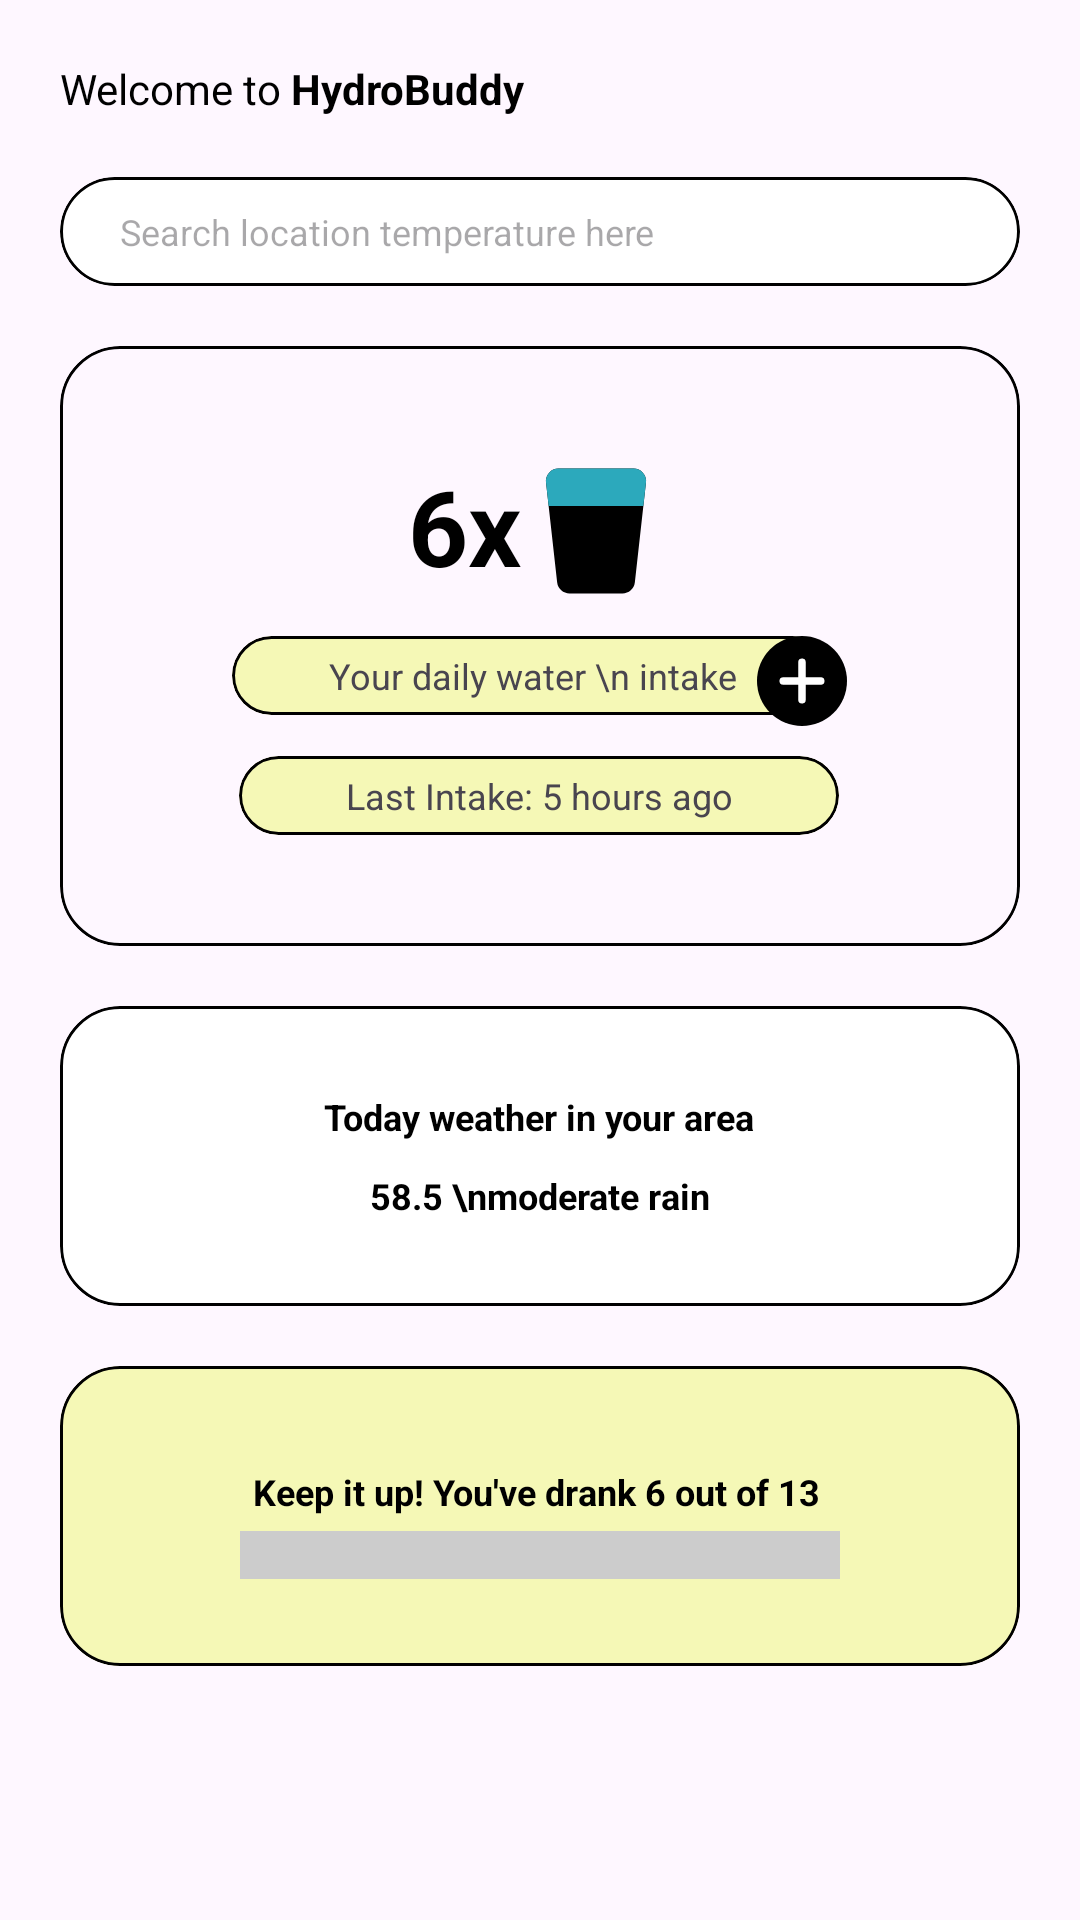

Icon click points for this 1080*1920 phone screenshot, format (x,y):
add: (802,681)
glass water: (595,531)
